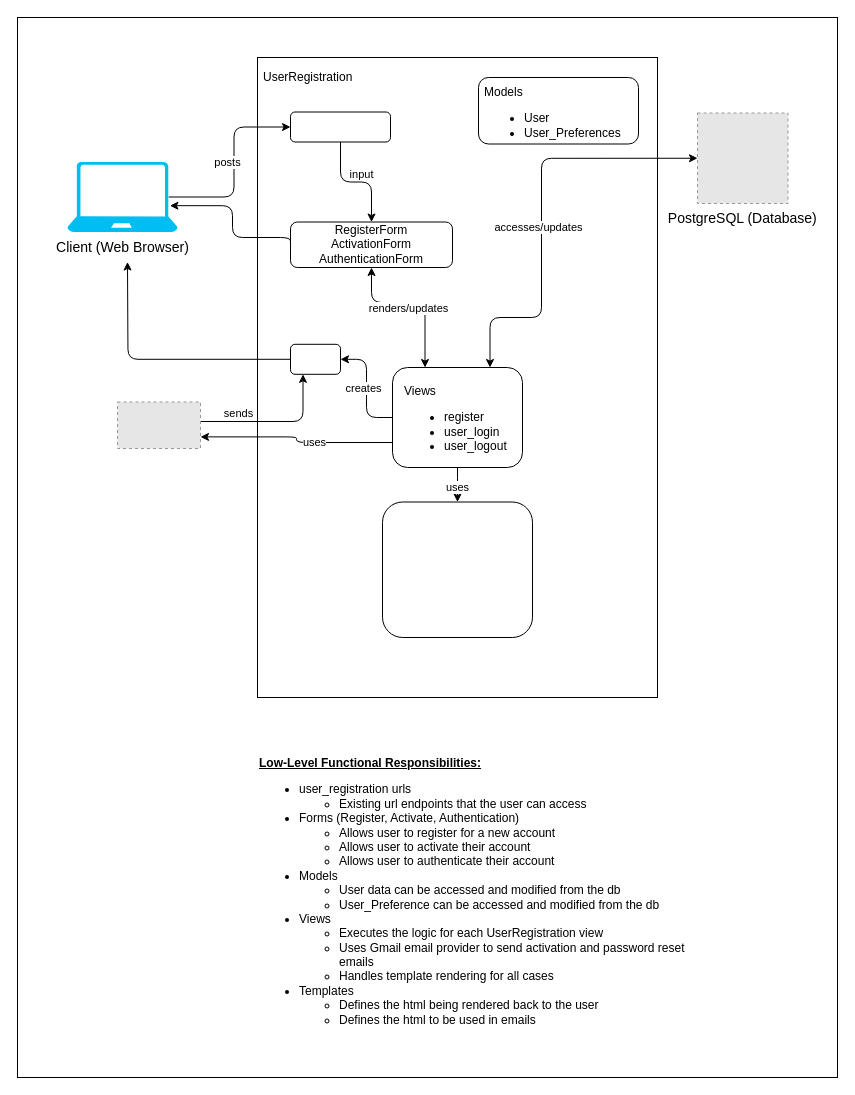
This 855x1095 diagram has some shape labels left out. Grey dashed boxes stand in for pictures. Each missing label, with the box of its shape:
Email: (290, 343, 340, 374)
Templates login password_reset activate register logout: (382, 501, 532, 638)
user_registration url: (290, 111, 390, 142)
